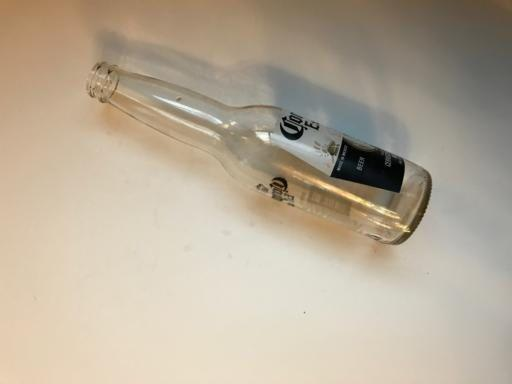botolkaca: (85, 63, 432, 245)
